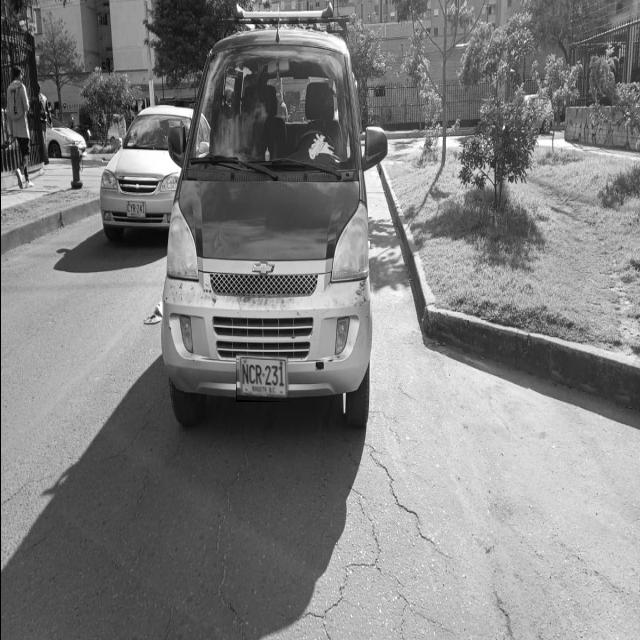plate: (235, 352, 289, 402)
